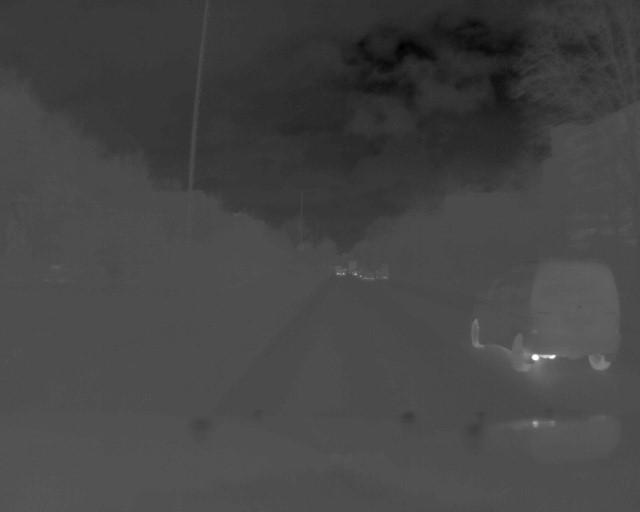car: (466, 260, 622, 380), (332, 262, 347, 280)
